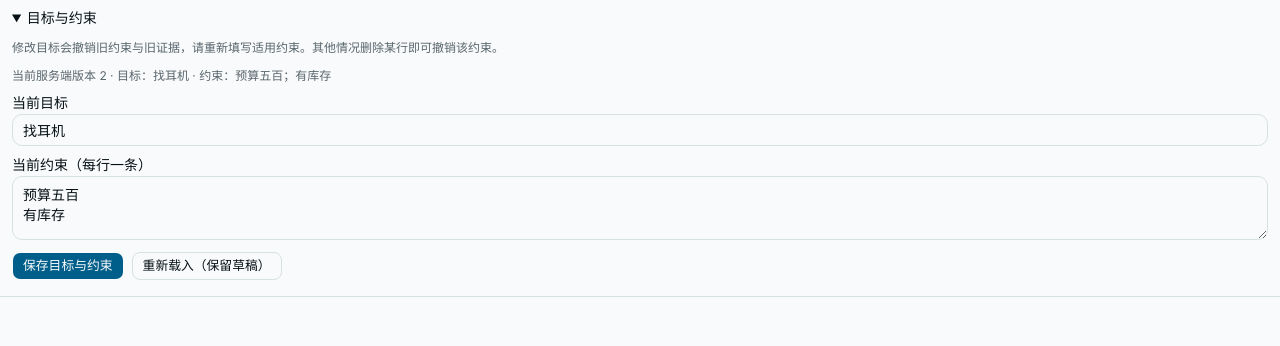
Test: 会话目标与约束 › 删除约束发送完整新列表与已读取的版本
Check: the field labelled "当前目标" holds "找耳机", box [12,114,1268,146]
Replace the text in the text box labelled "当前约束（每行一条）" with "有库存" at (640, 208), box [12,176,1268,240]
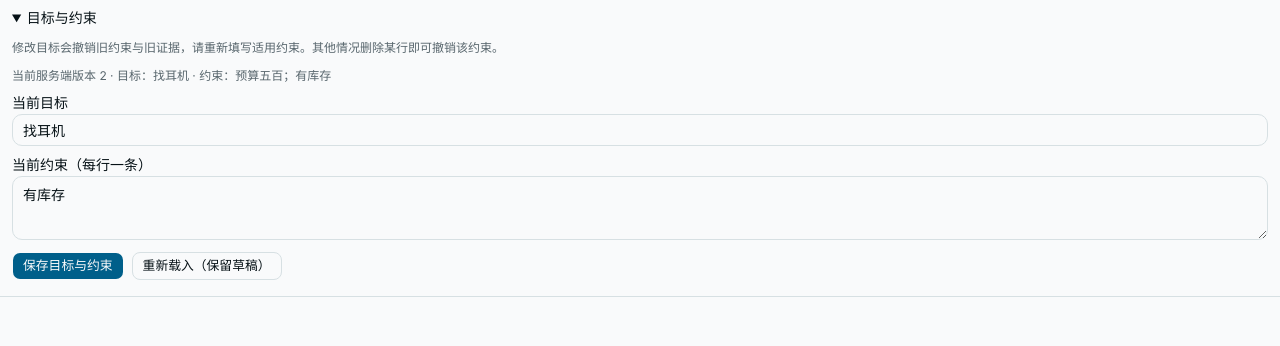
Click the button "保存目标与约束" at (68, 266), box [12,252,124,280]
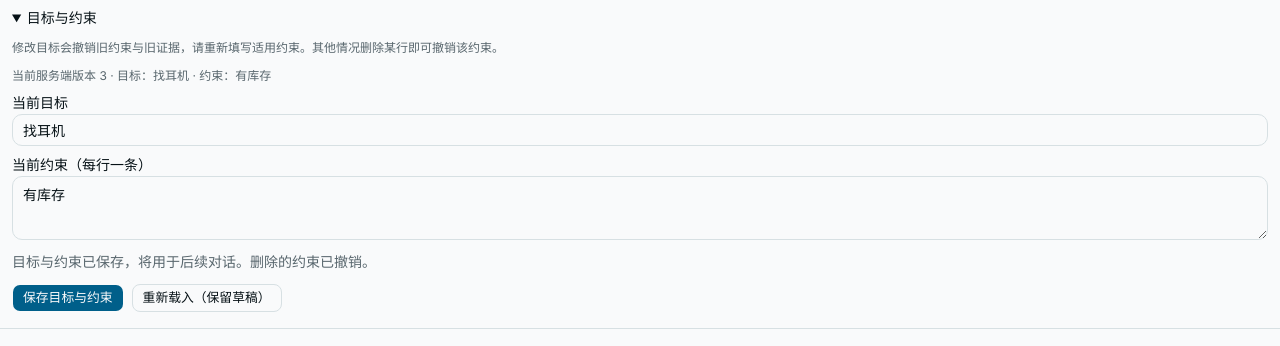
Check: the text "目标与约束已保存，将用于后续对话。删除的约束已撤销。" is shown, box [12,253,376,270]
